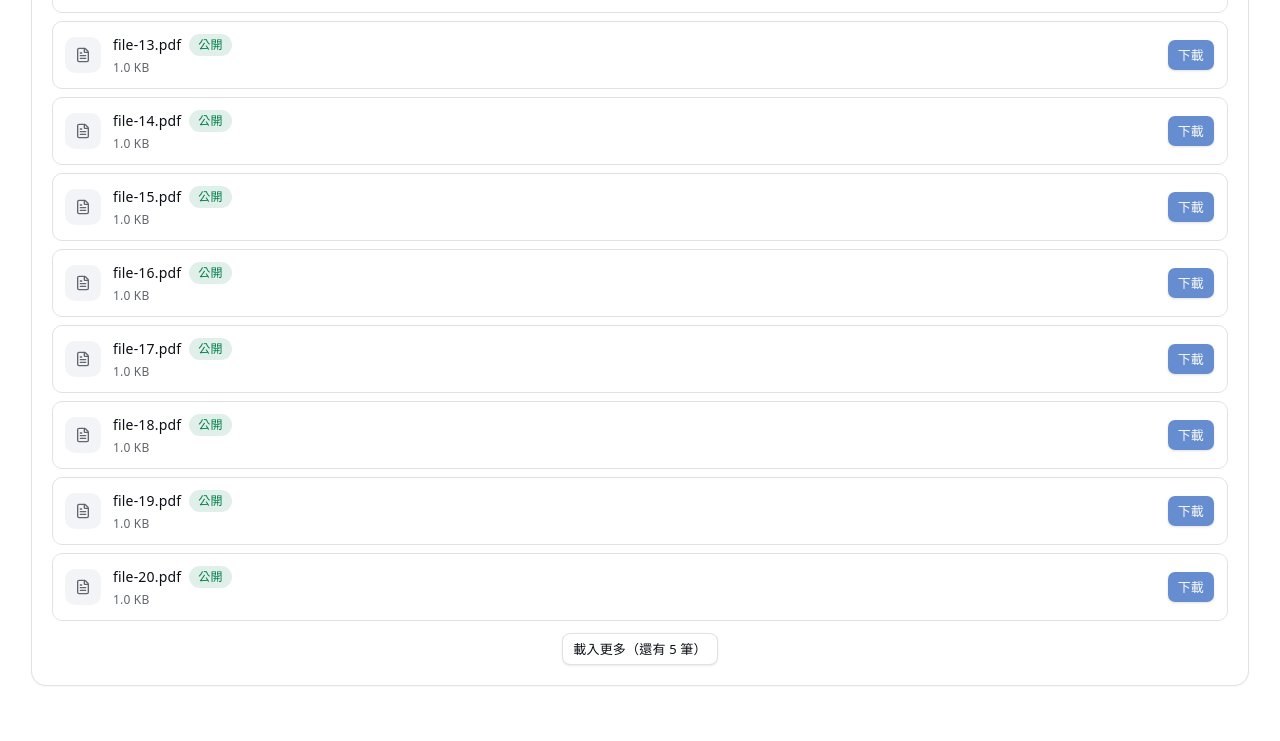
Test: HomePage › only renders the first page of files per folder group, with a load-more button
(page scrolled)
Expected: the text "file-25.pdf" is not shown
Click the button "載入更多（還有 5 筆）" at (640, 649), box top-left (562, 633), bottom-right (718, 665)
(page scrolled)
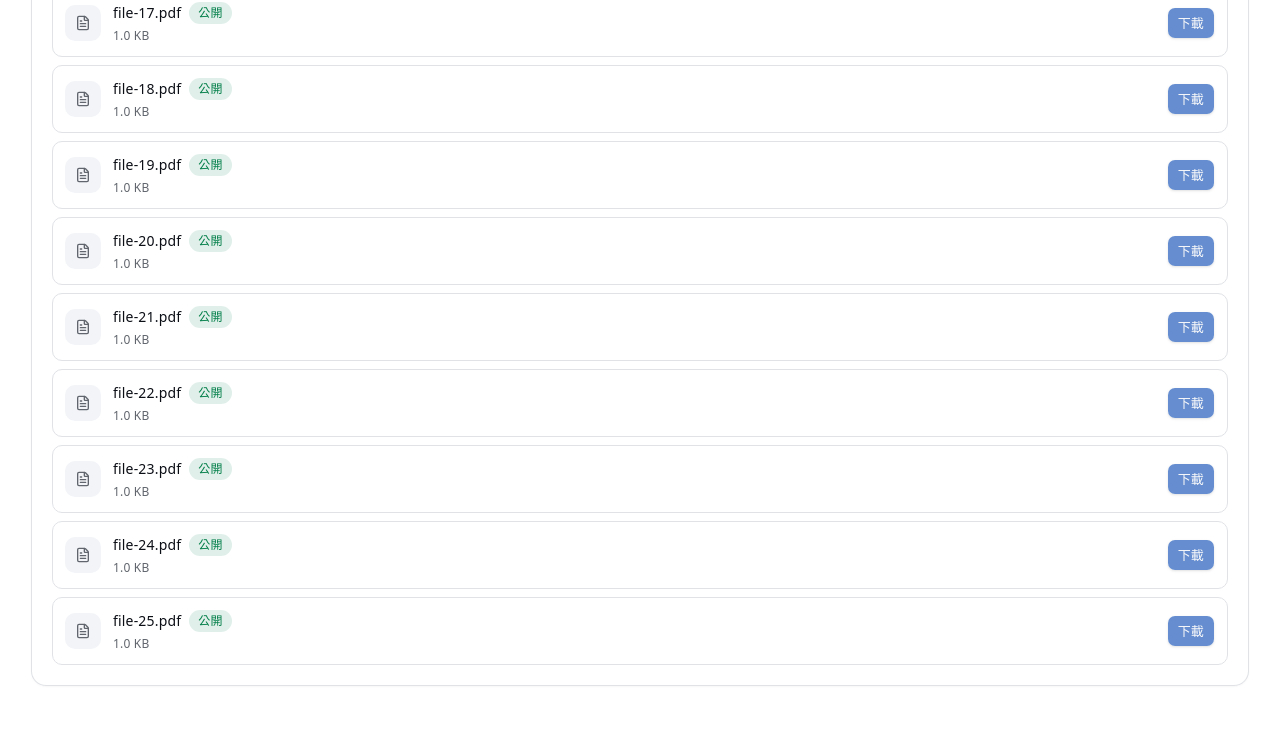
Expected: the text "file-25.pdf" is shown, top-left (113, 611), bottom-right (181, 631)
